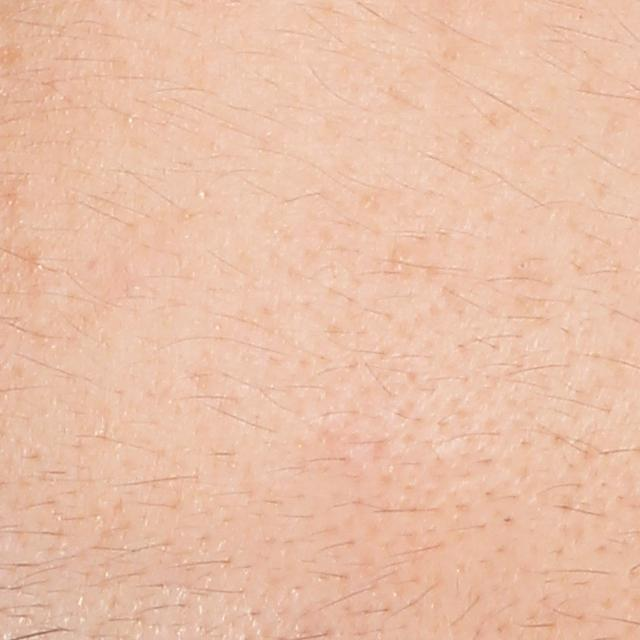comedo: (517, 259, 530, 273)
